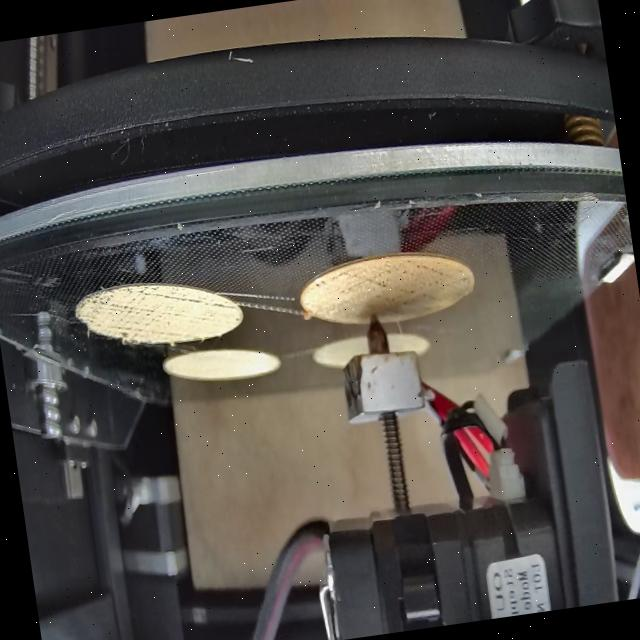under_extrusion: (312, 252, 472, 311), (82, 278, 207, 346), (210, 286, 240, 319)
